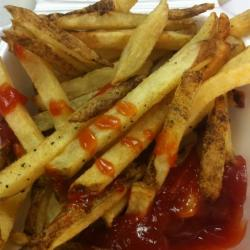fries: (6, 7, 232, 193)
